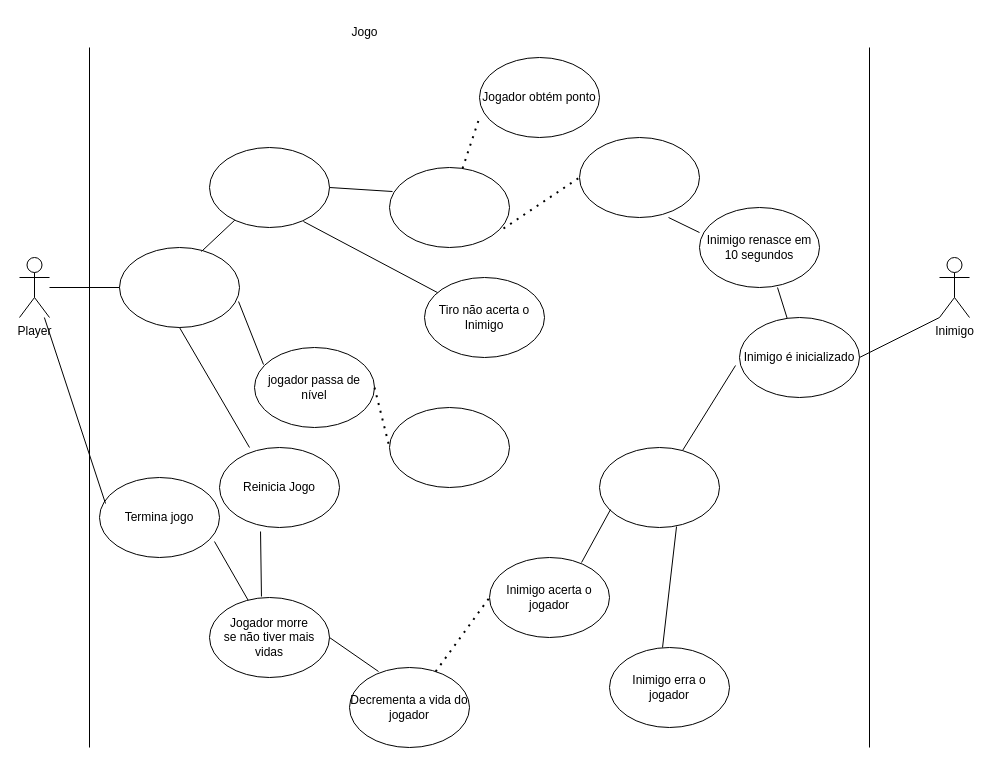
The diagram is 991 pixels wide and 766 high, and some of its shapes have lost their labels. The shapes that lost their labels are listed below. From the top down, each one's centre as x and y in pixels, then its label:
(269,187): Jogador Atira
(639,177): Inimigo morre
(449,207): Tiro acerta o Inimigo
(179,287): Inicia Jogo
(449,447): Aumenta a velocidade do Inimigo
(659,487): Inimigo atira
